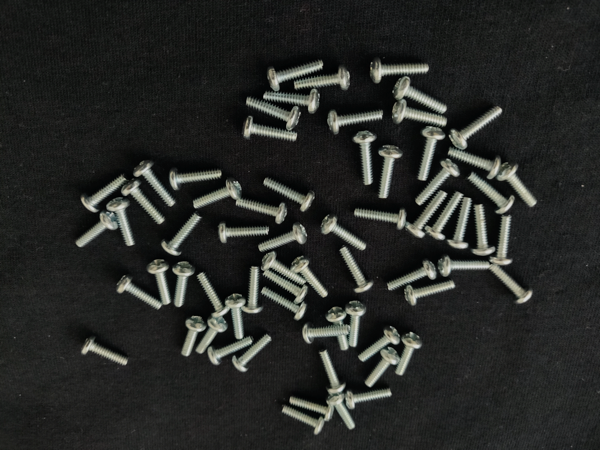shortscrew: (450, 105, 505, 150), (392, 75, 449, 114), (415, 159, 461, 206), (133, 159, 177, 208), (466, 172, 516, 214), (404, 192, 448, 239), (121, 178, 165, 225), (245, 95, 302, 131), (263, 175, 316, 213), (487, 263, 534, 305), (497, 161, 539, 208), (161, 211, 204, 256), (80, 174, 128, 213), (115, 273, 164, 311), (426, 192, 464, 241), (321, 214, 368, 252), (269, 59, 324, 91), (75, 210, 119, 249), (387, 259, 437, 293), (448, 147, 501, 179), (294, 64, 352, 93), (232, 333, 273, 374), (328, 106, 384, 136), (370, 56, 430, 84), (196, 269, 230, 318), (193, 177, 243, 210), (359, 325, 402, 363), (291, 256, 329, 299), (261, 250, 307, 285), (80, 335, 130, 367), (392, 99, 448, 127), (259, 221, 308, 253), (340, 247, 374, 293), (264, 271, 310, 305), (262, 287, 308, 321), (208, 334, 255, 367), (417, 126, 445, 181), (243, 115, 298, 142), (377, 144, 404, 198), (405, 279, 457, 306), (447, 198, 474, 250), (352, 130, 377, 186), (264, 89, 320, 114), (236, 199, 289, 225), (107, 197, 135, 246), (365, 348, 400, 387), (169, 167, 223, 192), (282, 405, 325, 436), (354, 206, 407, 231), (196, 314, 228, 355), (394, 331, 423, 376), (490, 215, 515, 266), (145, 257, 171, 306), (318, 348, 346, 393), (438, 253, 490, 277), (179, 315, 208, 358), (326, 391, 357, 431), (472, 205, 496, 256), (218, 221, 269, 245), (173, 261, 197, 308), (325, 304, 349, 351), (290, 397, 335, 422), (347, 388, 394, 411), (345, 300, 367, 348), (225, 293, 247, 340), (302, 323, 350, 344)
